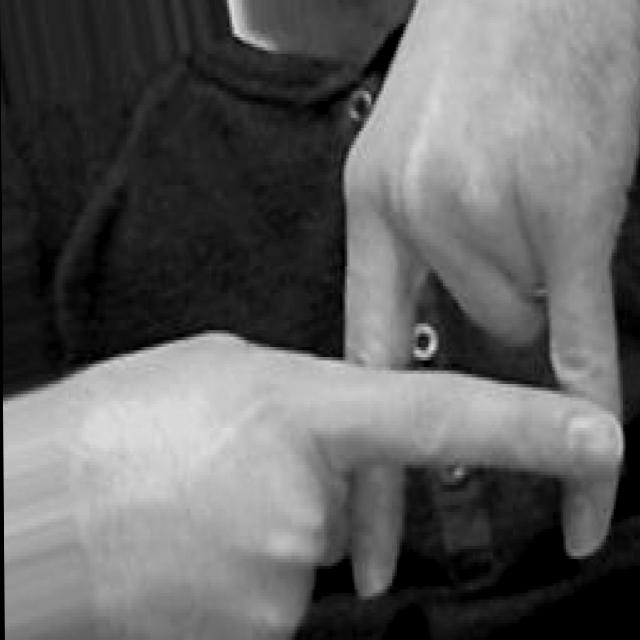H: (126, 0, 640, 640)
